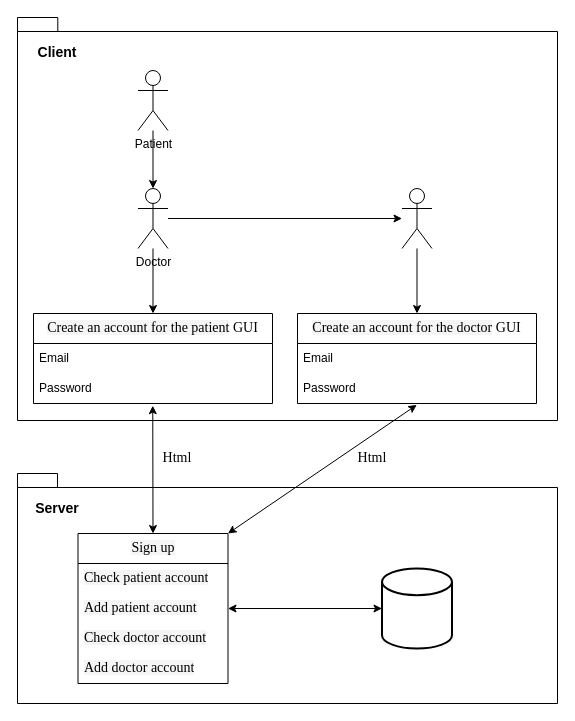
Image size: 575x721. Some labels were removed from this diagram. The box of each missing label's shape, as (x1, y1, x2, y2) in pixels:
Admin: (401, 188, 432, 248)
DB: (380, 567, 452, 649)
